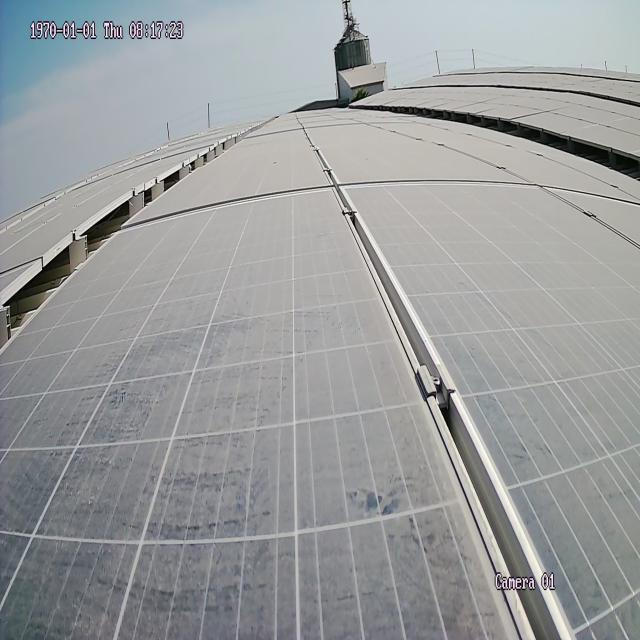interior panel: (304, 148, 542, 597), (166, 175, 301, 237), (408, 158, 589, 199)
outher panel: (9, 144, 254, 364), (458, 105, 635, 190), (354, 93, 479, 142)
